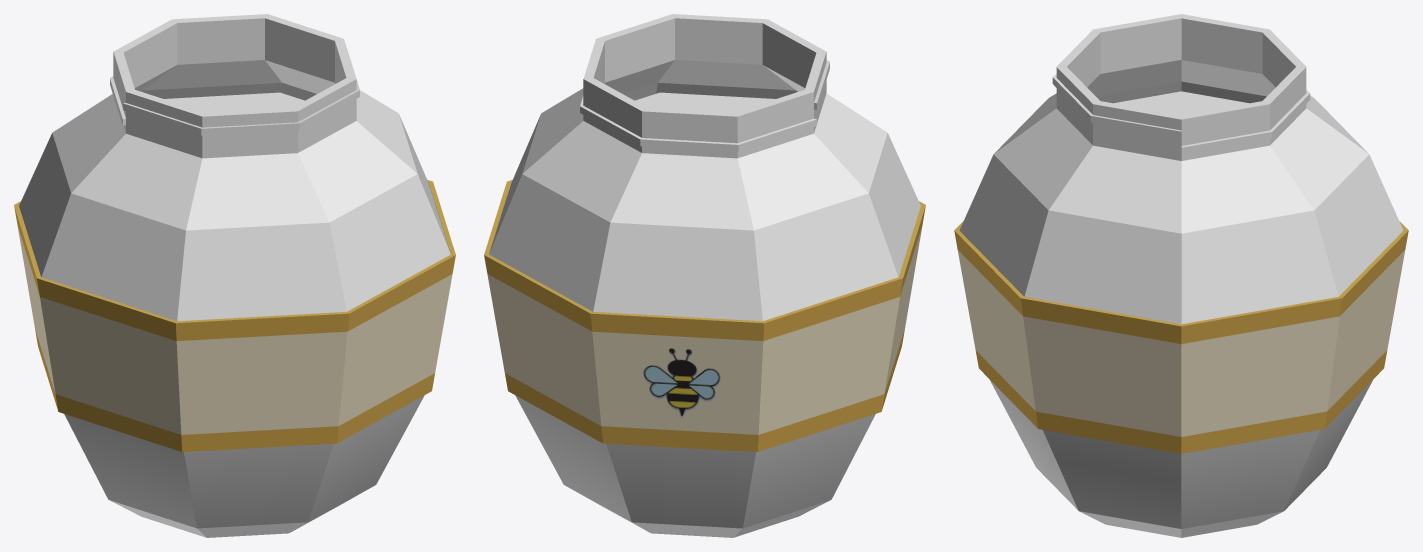
Rendered from Miel.fbx.
3 renders of one model, left to right at view 1: azimuth 30°, elevation 25°; view 2: azimuth 150°, elevation 25°; view 3: azimuth 270°, elevation 25°, orthographic.
Parts seen in each view (by area): view 1: Miel; view 2: Miel; view 3: Miel.
Part boxes in pixels (bbox=[...]): Miel: bbox=[14, 14, 455, 537]; Miel: bbox=[484, 14, 925, 537]; Miel: bbox=[954, 14, 1408, 537].
Size of the model in its own units: 17.05 by 17.62 by 17.05.
4 materials, 1 textured.
